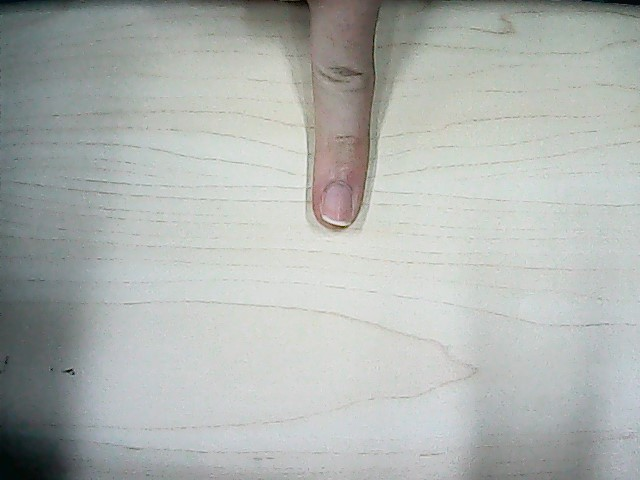nail: (322, 185, 352, 229)
